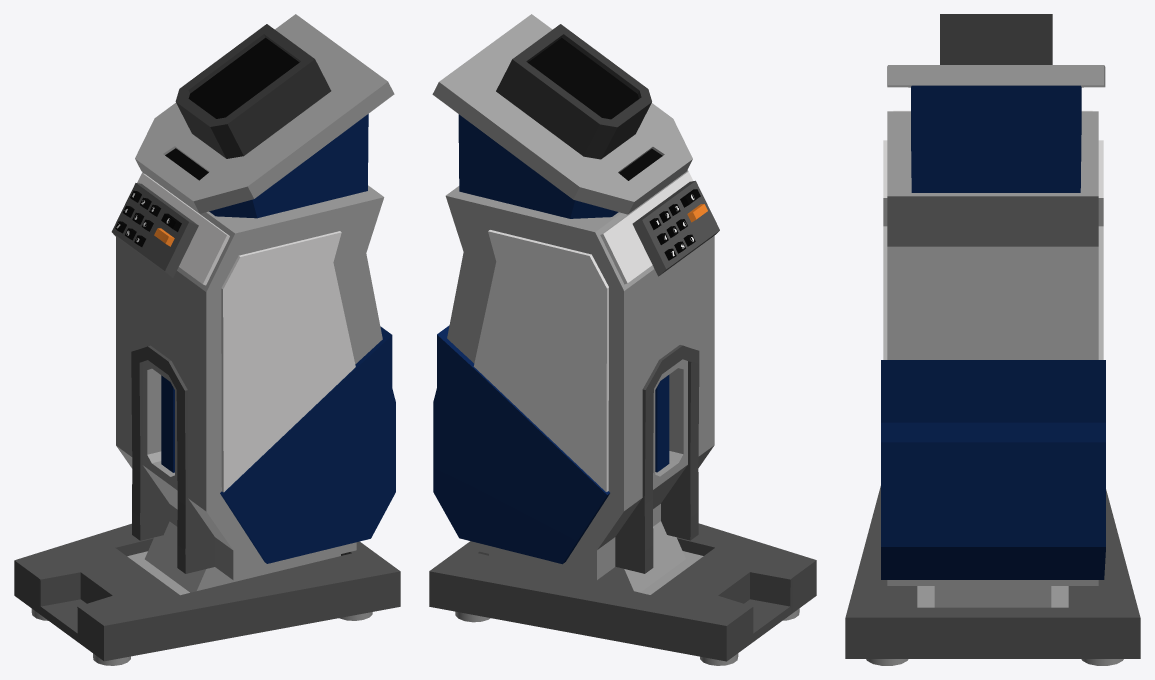
Rendered from Identy_07.fbx.
3 views of the same model, side by side, from view 1: azimuth 30°, elevation 25°; view 2: azimuth 150°, elevation 25°; view 3: azimuth 270°, elevation 25° (orthographic). The views are drawn at different scales.
Visible parts, largest first — view 1: F_Identy_07; view 2: F_Identy_07; view 3: F_Identy_07.
Boxes of the visible parts, bbox=[...] form: F_Identy_07: bbox=[14, 14, 400, 665]; F_Identy_07: bbox=[429, 14, 816, 665]; F_Identy_07: bbox=[845, 14, 1140, 665].
Bounding box in the file's own units: 49.37 × 87.83 × 37.08.
1 material, 1 textured.
